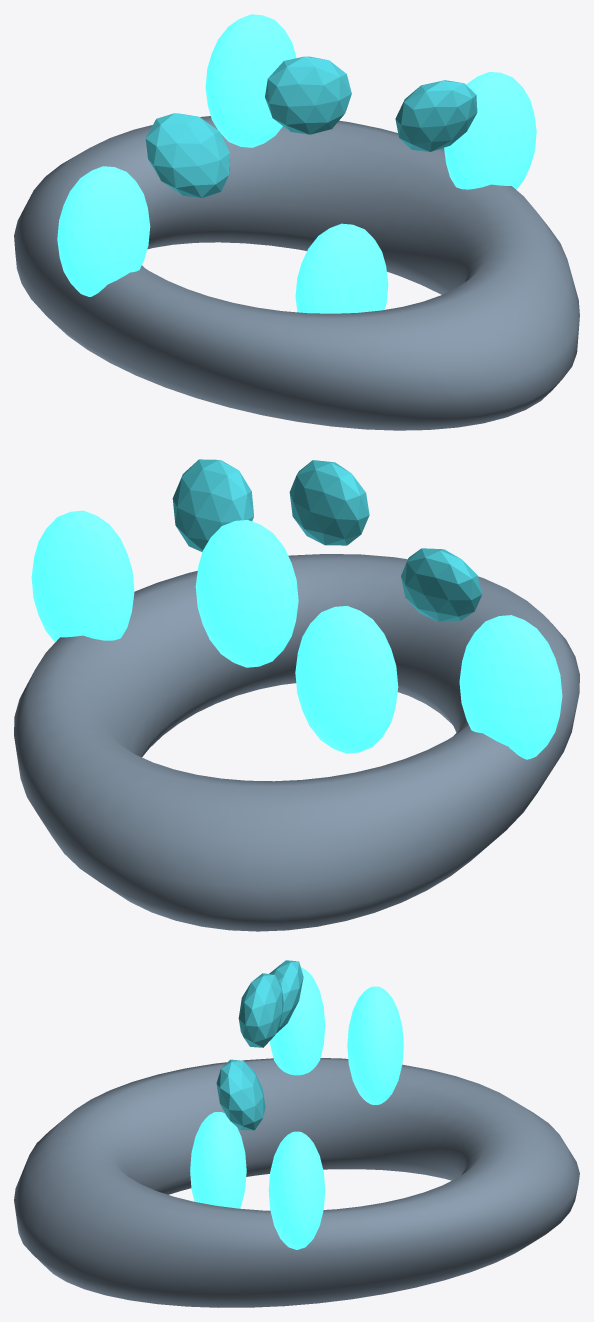
File: earring_v8.glb
3 views of the same model, one above another, from view 1: azimuth 30°, elevation 25°; view 2: azimuth 150°, elevation 25°; view 3: azimuth 270°, elevation 25° (orthographic). The views are drawn at different scales.
Parts seen in each view (by area): view 1: EAR_CUFF_PRIMARY, ASCENDANT_GEM_EMISSIVE.002, ASCENDANT_GEM_EMISSIVE.001, ASCENDANT_GEM_EMISSIVE, ASCENDANT_GEM_EMISSIVE.003, CUFF_STUD_ACCENT, CUFF_STUD_ACCENT.001, CUFF_STUD_ACCENT.002; view 2: EAR_CUFF_PRIMARY, ASCENDANT_GEM_EMISSIVE.001, ASCENDANT_GEM_EMISSIVE.003, ASCENDANT_GEM_EMISSIVE.002, ASCENDANT_GEM_EMISSIVE, CUFF_STUD_ACCENT.001, CUFF_STUD_ACCENT.002, CUFF_STUD_ACCENT; view 3: EAR_CUFF_PRIMARY, ASCENDANT_GEM_EMISSIVE.001, ASCENDANT_GEM_EMISSIVE, ASCENDANT_GEM_EMISSIVE.003, ASCENDANT_GEM_EMISSIVE.002, CUFF_STUD_ACCENT.002, CUFF_STUD_ACCENT.001, CUFF_STUD_ACCENT.
Boxes of the visible parts, left/top/right/bottom form: EAR_CUFF_PRIMARY: left=14, top=116, right=579, bottom=430; ASCENDANT_GEM_EMISSIVE.002: left=57, top=166, right=150, bottom=296; ASCENDANT_GEM_EMISSIVE.001: left=205, top=14, right=296, bottom=147; ASCENDANT_GEM_EMISSIVE: left=444, top=72, right=536, bottom=189; ASCENDANT_GEM_EMISSIVE.003: left=295, top=223, right=388, bottom=313; CUFF_STUD_ACCENT: left=145, top=113, right=229, bottom=197; CUFF_STUD_ACCENT.001: left=265, top=56, right=351, bottom=134; CUFF_STUD_ACCENT.002: left=395, top=80, right=477, bottom=151; EAR_CUFF_PRIMARY: left=14, top=554, right=579, bottom=931; ASCENDANT_GEM_EMISSIVE.001: left=195, top=520, right=298, bottom=667; ASCENDANT_GEM_EMISSIVE.003: left=295, top=606, right=398, bottom=753; ASCENDANT_GEM_EMISSIVE.002: left=459, top=615, right=562, bottom=759; ASCENDANT_GEM_EMISSIVE: left=31, top=510, right=134, bottom=642; CUFF_STUD_ACCENT.001: left=289, top=460, right=369, bottom=545; CUFF_STUD_ACCENT.002: left=172, top=459, right=253, bottom=551; CUFF_STUD_ACCENT: left=401, top=548, right=482, bottom=621; EAR_CUFF_PRIMARY: left=14, top=1058, right=579, bottom=1307; ASCENDANT_GEM_EMISSIVE.001: left=347, top=986, right=403, bottom=1104; ASCENDANT_GEM_EMISSIVE: left=268, top=1131, right=325, bottom=1249; ASCENDANT_GEM_EMISSIVE.003: left=190, top=1112, right=246, bottom=1208; ASCENDANT_GEM_EMISSIVE.002: left=270, top=967, right=325, bottom=1075; CUFF_STUD_ACCENT.002: left=216, top=1059, right=265, bottom=1130; CUFF_STUD_ACCENT.001: left=238, top=973, right=283, bottom=1047; CUFF_STUD_ACCENT: left=269, top=960, right=303, bottom=1033.
Bounding box in the file's own units: 1.52 × 0.8964 × 1.8.
